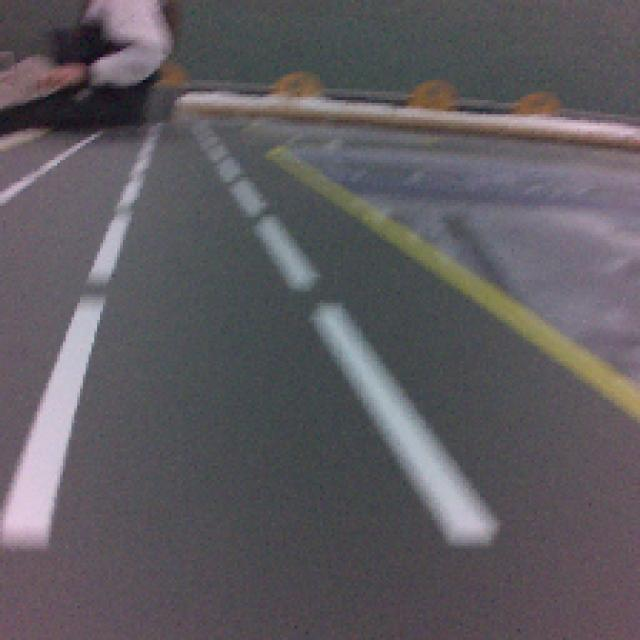Road: (47, 320, 480, 637)
